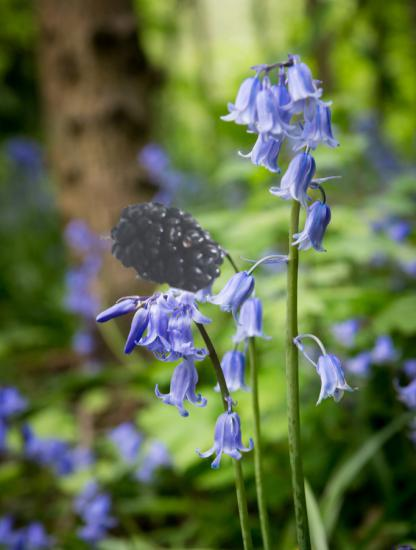Mulberry: (101, 173, 232, 304)
